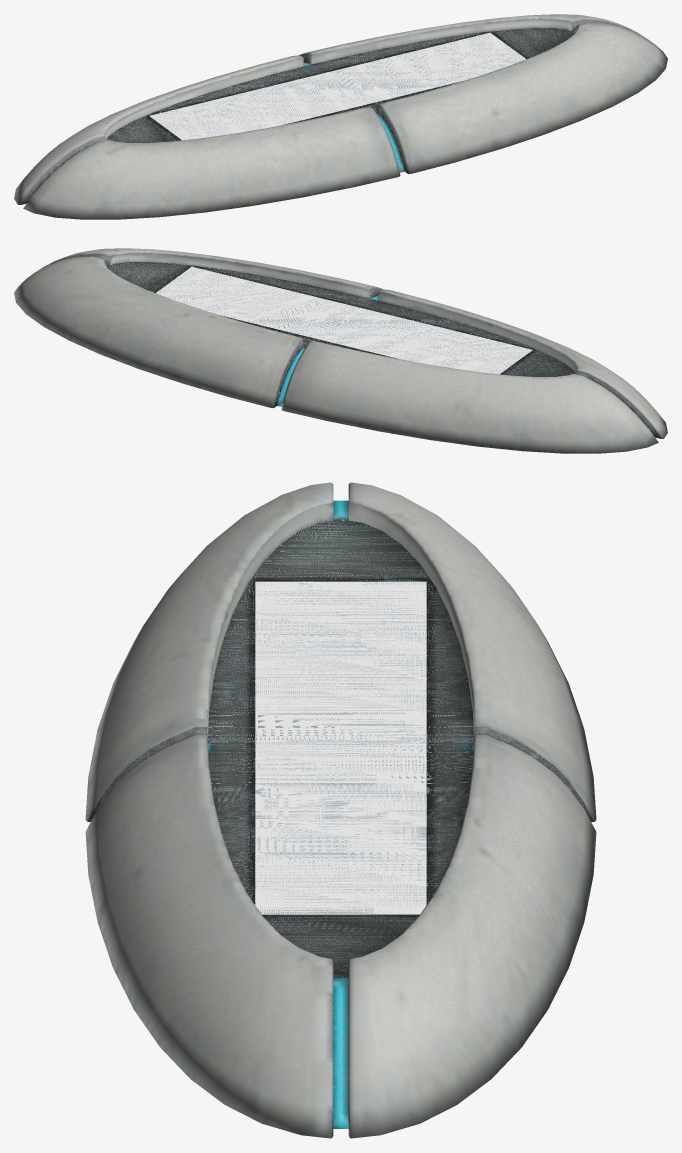
3 views of the same model, one above another, from view 1: azimuth 30°, elevation 25°; view 2: azimuth 150°, elevation 25°; view 3: azimuth 270°, elevation 25° (orthographic). The views are drawn at different scales.
Visible parts, largest first — view 1: clock_reference (×2); view 2: clock_reference (×2); view 3: clock_reference (×2).
Part boxes in pixels (left/top/right/bottom): clock_reference (×2): left=14, top=14, right=667, bottom=219; clock_reference (×2): left=14, top=248, right=667, bottom=453; clock_reference (×2): left=85, top=482, right=596, bottom=1138.
Bounding box in the file's own units: 86.37 × 29.82 × 6.23.
3 materials, 1 textured.
